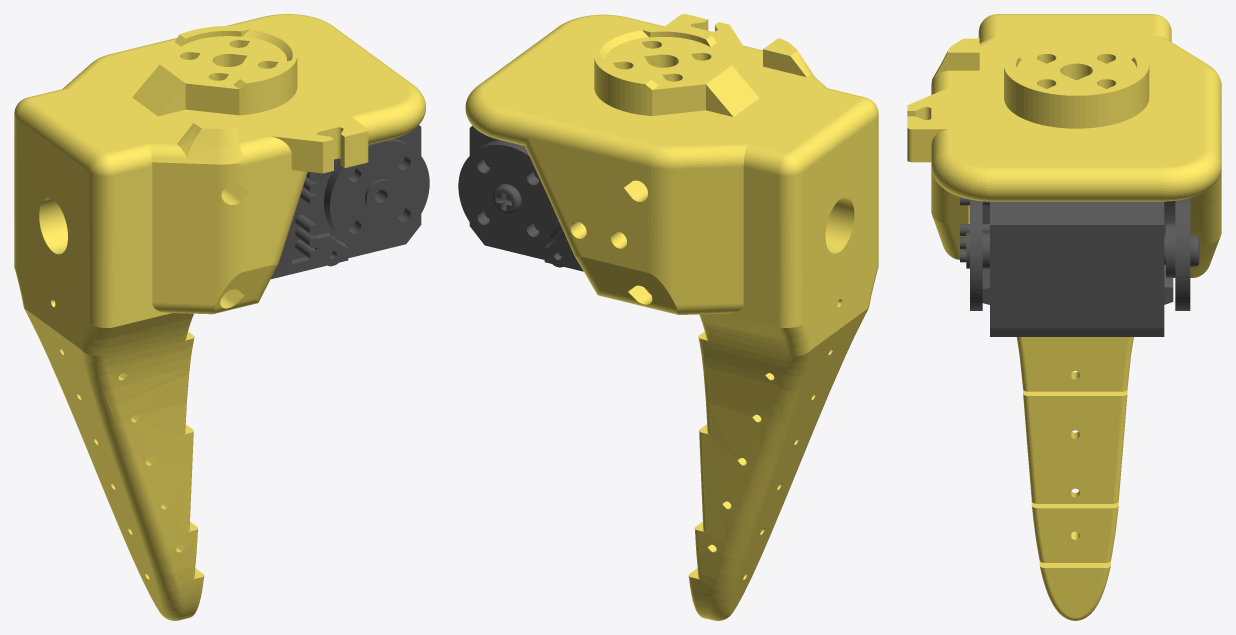
The model's file is gripper.glb.
3 views of the same model, side by side, from view 1: azimuth 30°, elevation 25°; view 2: azimuth 150°, elevation 25°; view 3: azimuth 270°, elevation 25° (orthographic). The views are drawn at different scales.
Parts seen in each view (by area): view 1: gripper; view 2: gripper; view 3: gripper.
Part boxes in pixels (x1,y1,x2,y2): gripper: (14, 14, 429, 620); gripper: (458, 14, 878, 620); gripper: (907, 14, 1221, 620).
Bounding box in the file's own units: 0.0656 × 0.1054 × 0.052.
